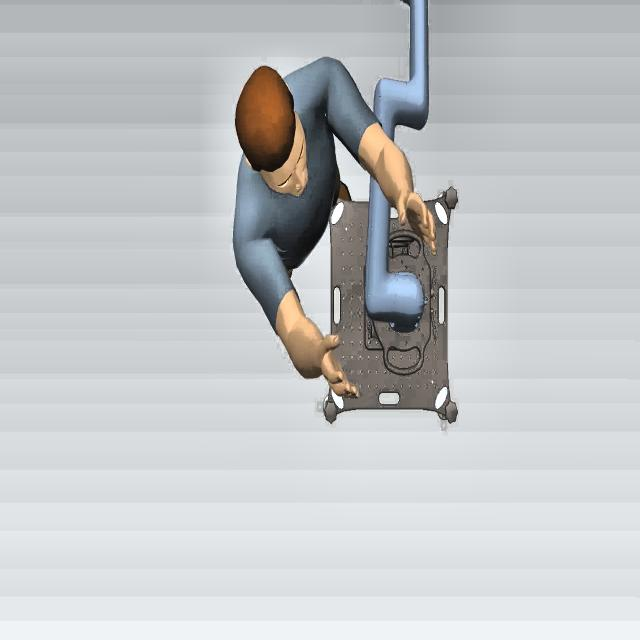robot: (360, 0, 438, 339)
